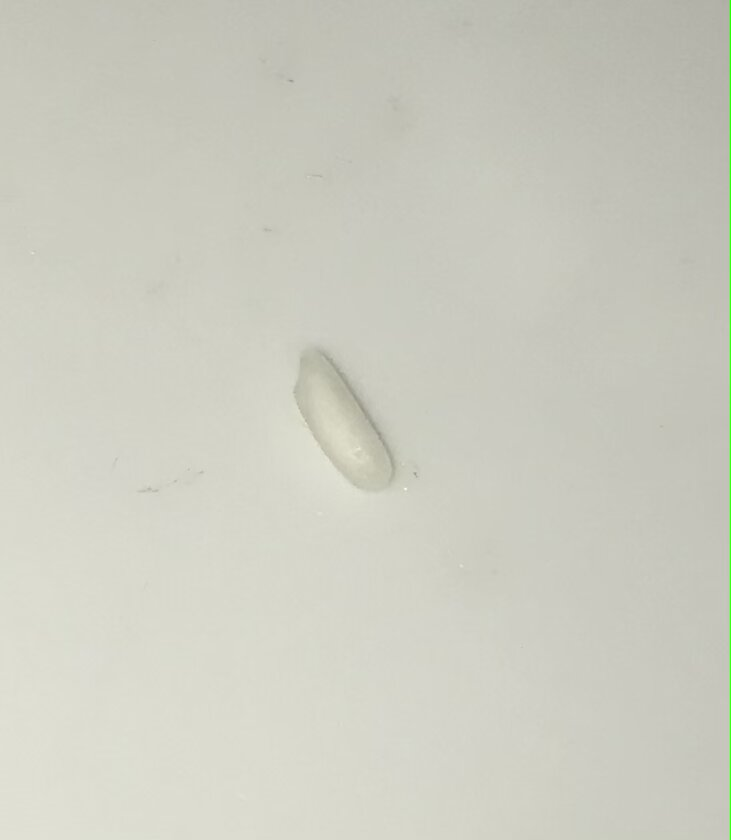Gao Lai Sua: (286, 344, 406, 499)
